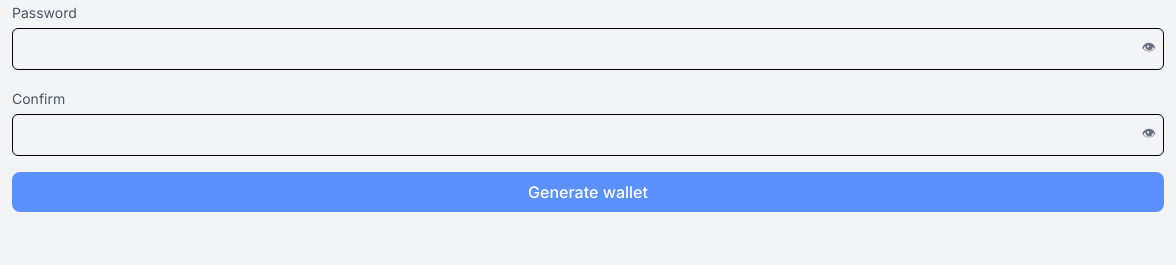
Test: CreateForm › displays error if password is invalid
This screenshot has width=1176, height=265.
Type "123" into the password field labelled "Password 👁".
click(588, 49); type("123")  # box [12,28,1164,70]
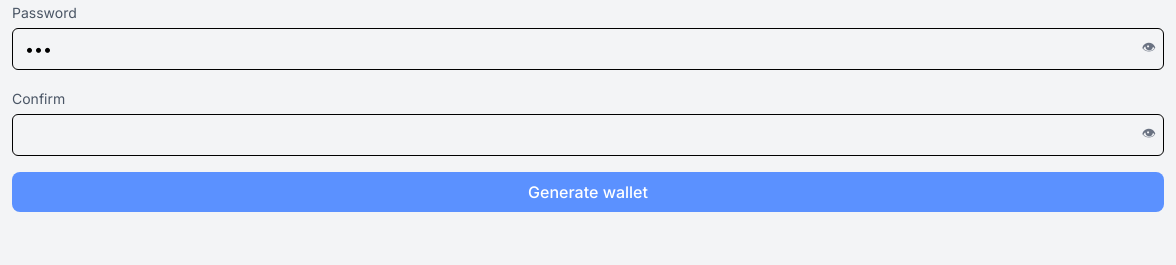
Type "456" into the password field labelled "Confirm 👁".
click(588, 135); type("456")  # box [12,114,1164,156]
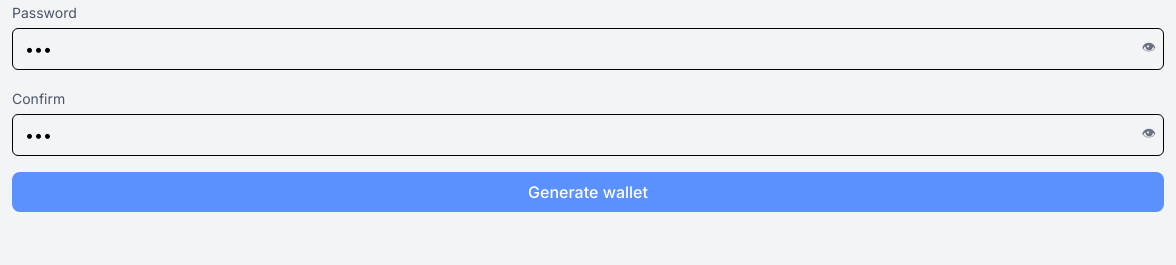
Click the button "Generate wallet".
click(588, 192)  # box [12,172,1164,212]
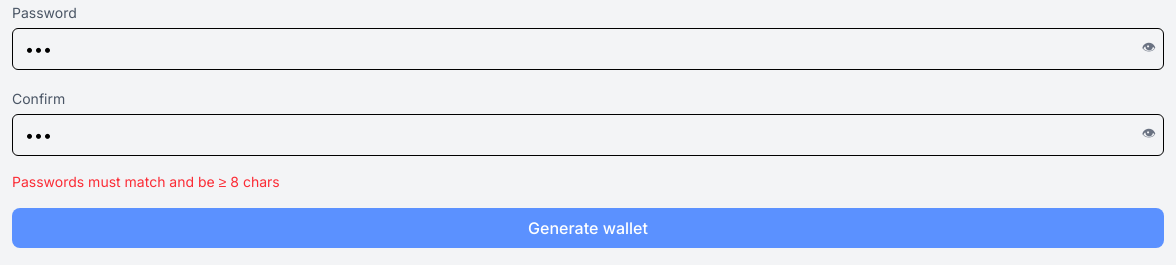
Expected: the text "Passwords must match and be ≥ 8 chars" is shown, [12,173,280,190]
